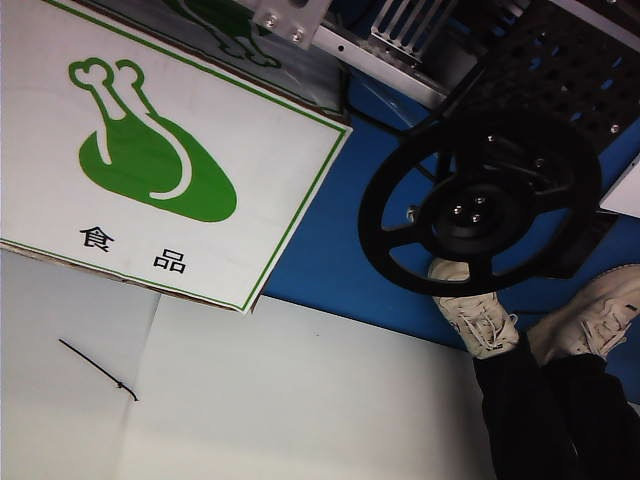Cube_food: (55, 49, 246, 289)
